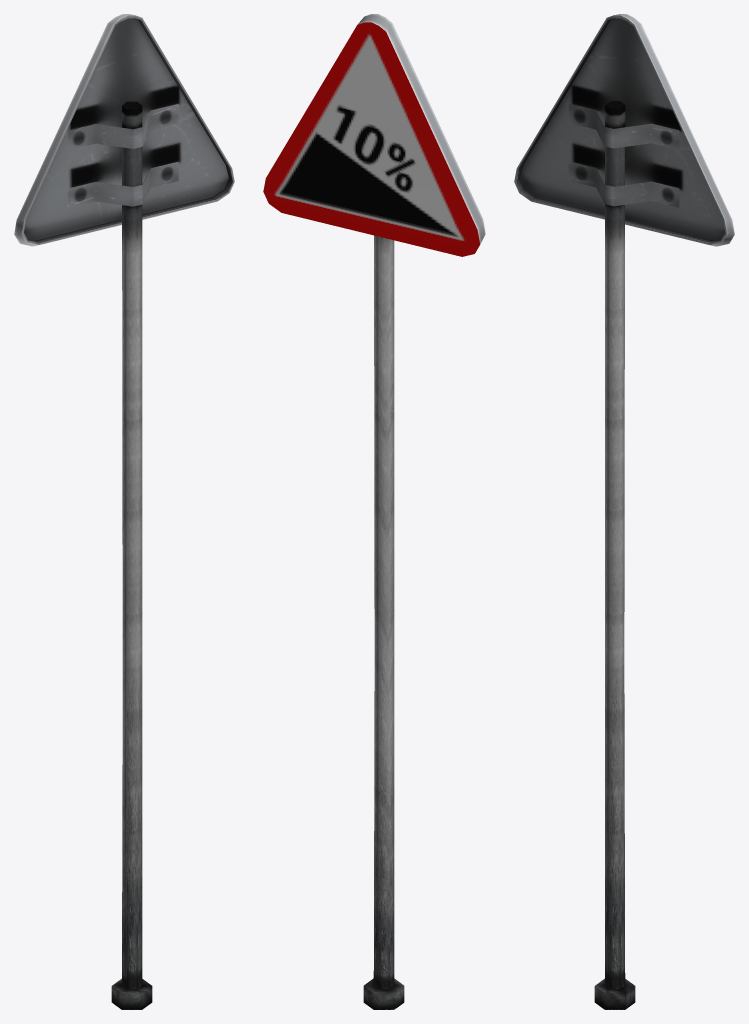
The model's file is TRF0310020.fbx.
3 views of the same model, side by side, from view 1: azimuth 30°, elevation 25°; view 2: azimuth 150°, elevation 25°; view 3: azimuth 330°, elevation 25° (orthographic).
Parts seen in each view (by area): view 1: smTRF0310020; view 2: smTRF0310020; view 3: smTRF0310020.
Part boxes in pixels (x1,y1,x2,y2): smTRF0310020: (14, 14, 234, 1009); smTRF0310020: (263, 14, 485, 1009); smTRF0310020: (514, 14, 734, 1009).
Bounding box in the file's own units: 70.52 × 308 × 12.16.
1 material, 1 textured.
